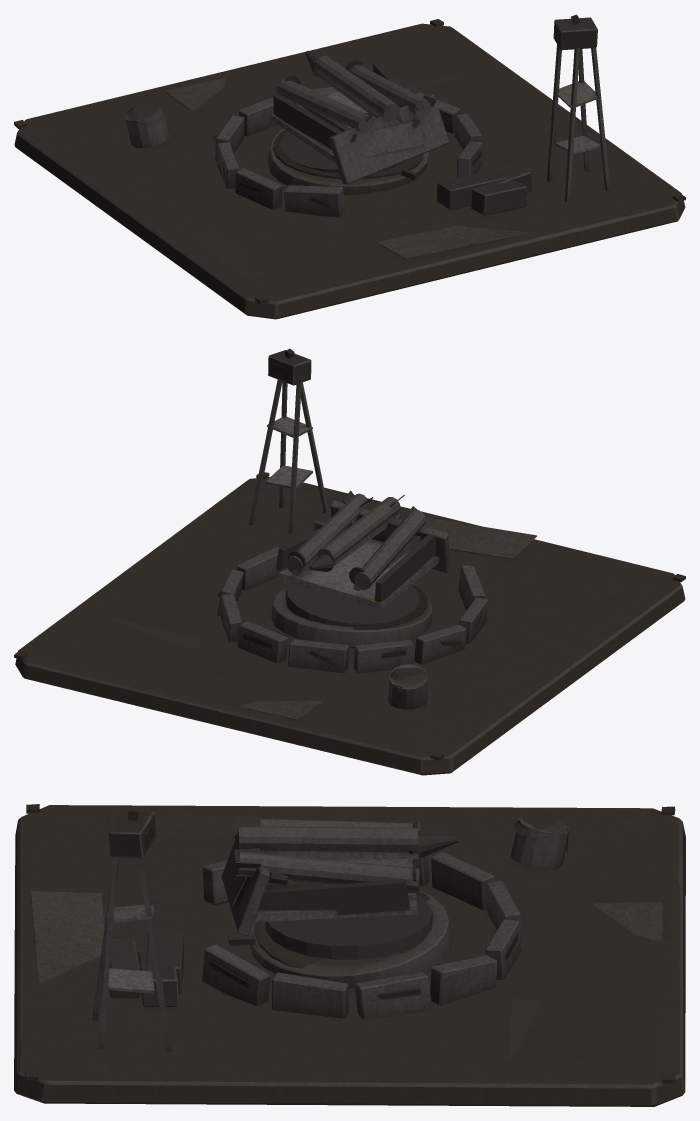
Rendered from chs_scourge_wreck.fbx.
3 views of the same model, one above another, from view 1: azimuth 30°, elevation 25°; view 2: azimuth 150°, elevation 25°; view 3: azimuth 270°, elevation 25° (orthographic). The views are drawn at different scales.
Parts seen in each view (by area): view 1: base_bar, launcher_bar; view 2: base_bar, launcher_bar; view 3: base_bar, launcher_bar.
Boxes of the visible parts, x1=… form: base_bar: x1=14, y1=14, x2=685, y2=319; launcher_bar: x1=271, y1=50, x2=448, y2=184; base_bar: x1=14, y1=348, x2=685, y2=775; launcher_bar: x1=276, y1=490, x2=450, y2=626; base_bar: x1=14, y1=804, x2=685, y2=1106; launcher_bar: x1=221, y1=816, x2=458, y2=959.
Bounding box in the file's own units: 2310 × 1148 × 2328.
2 materials, 2 textured.
